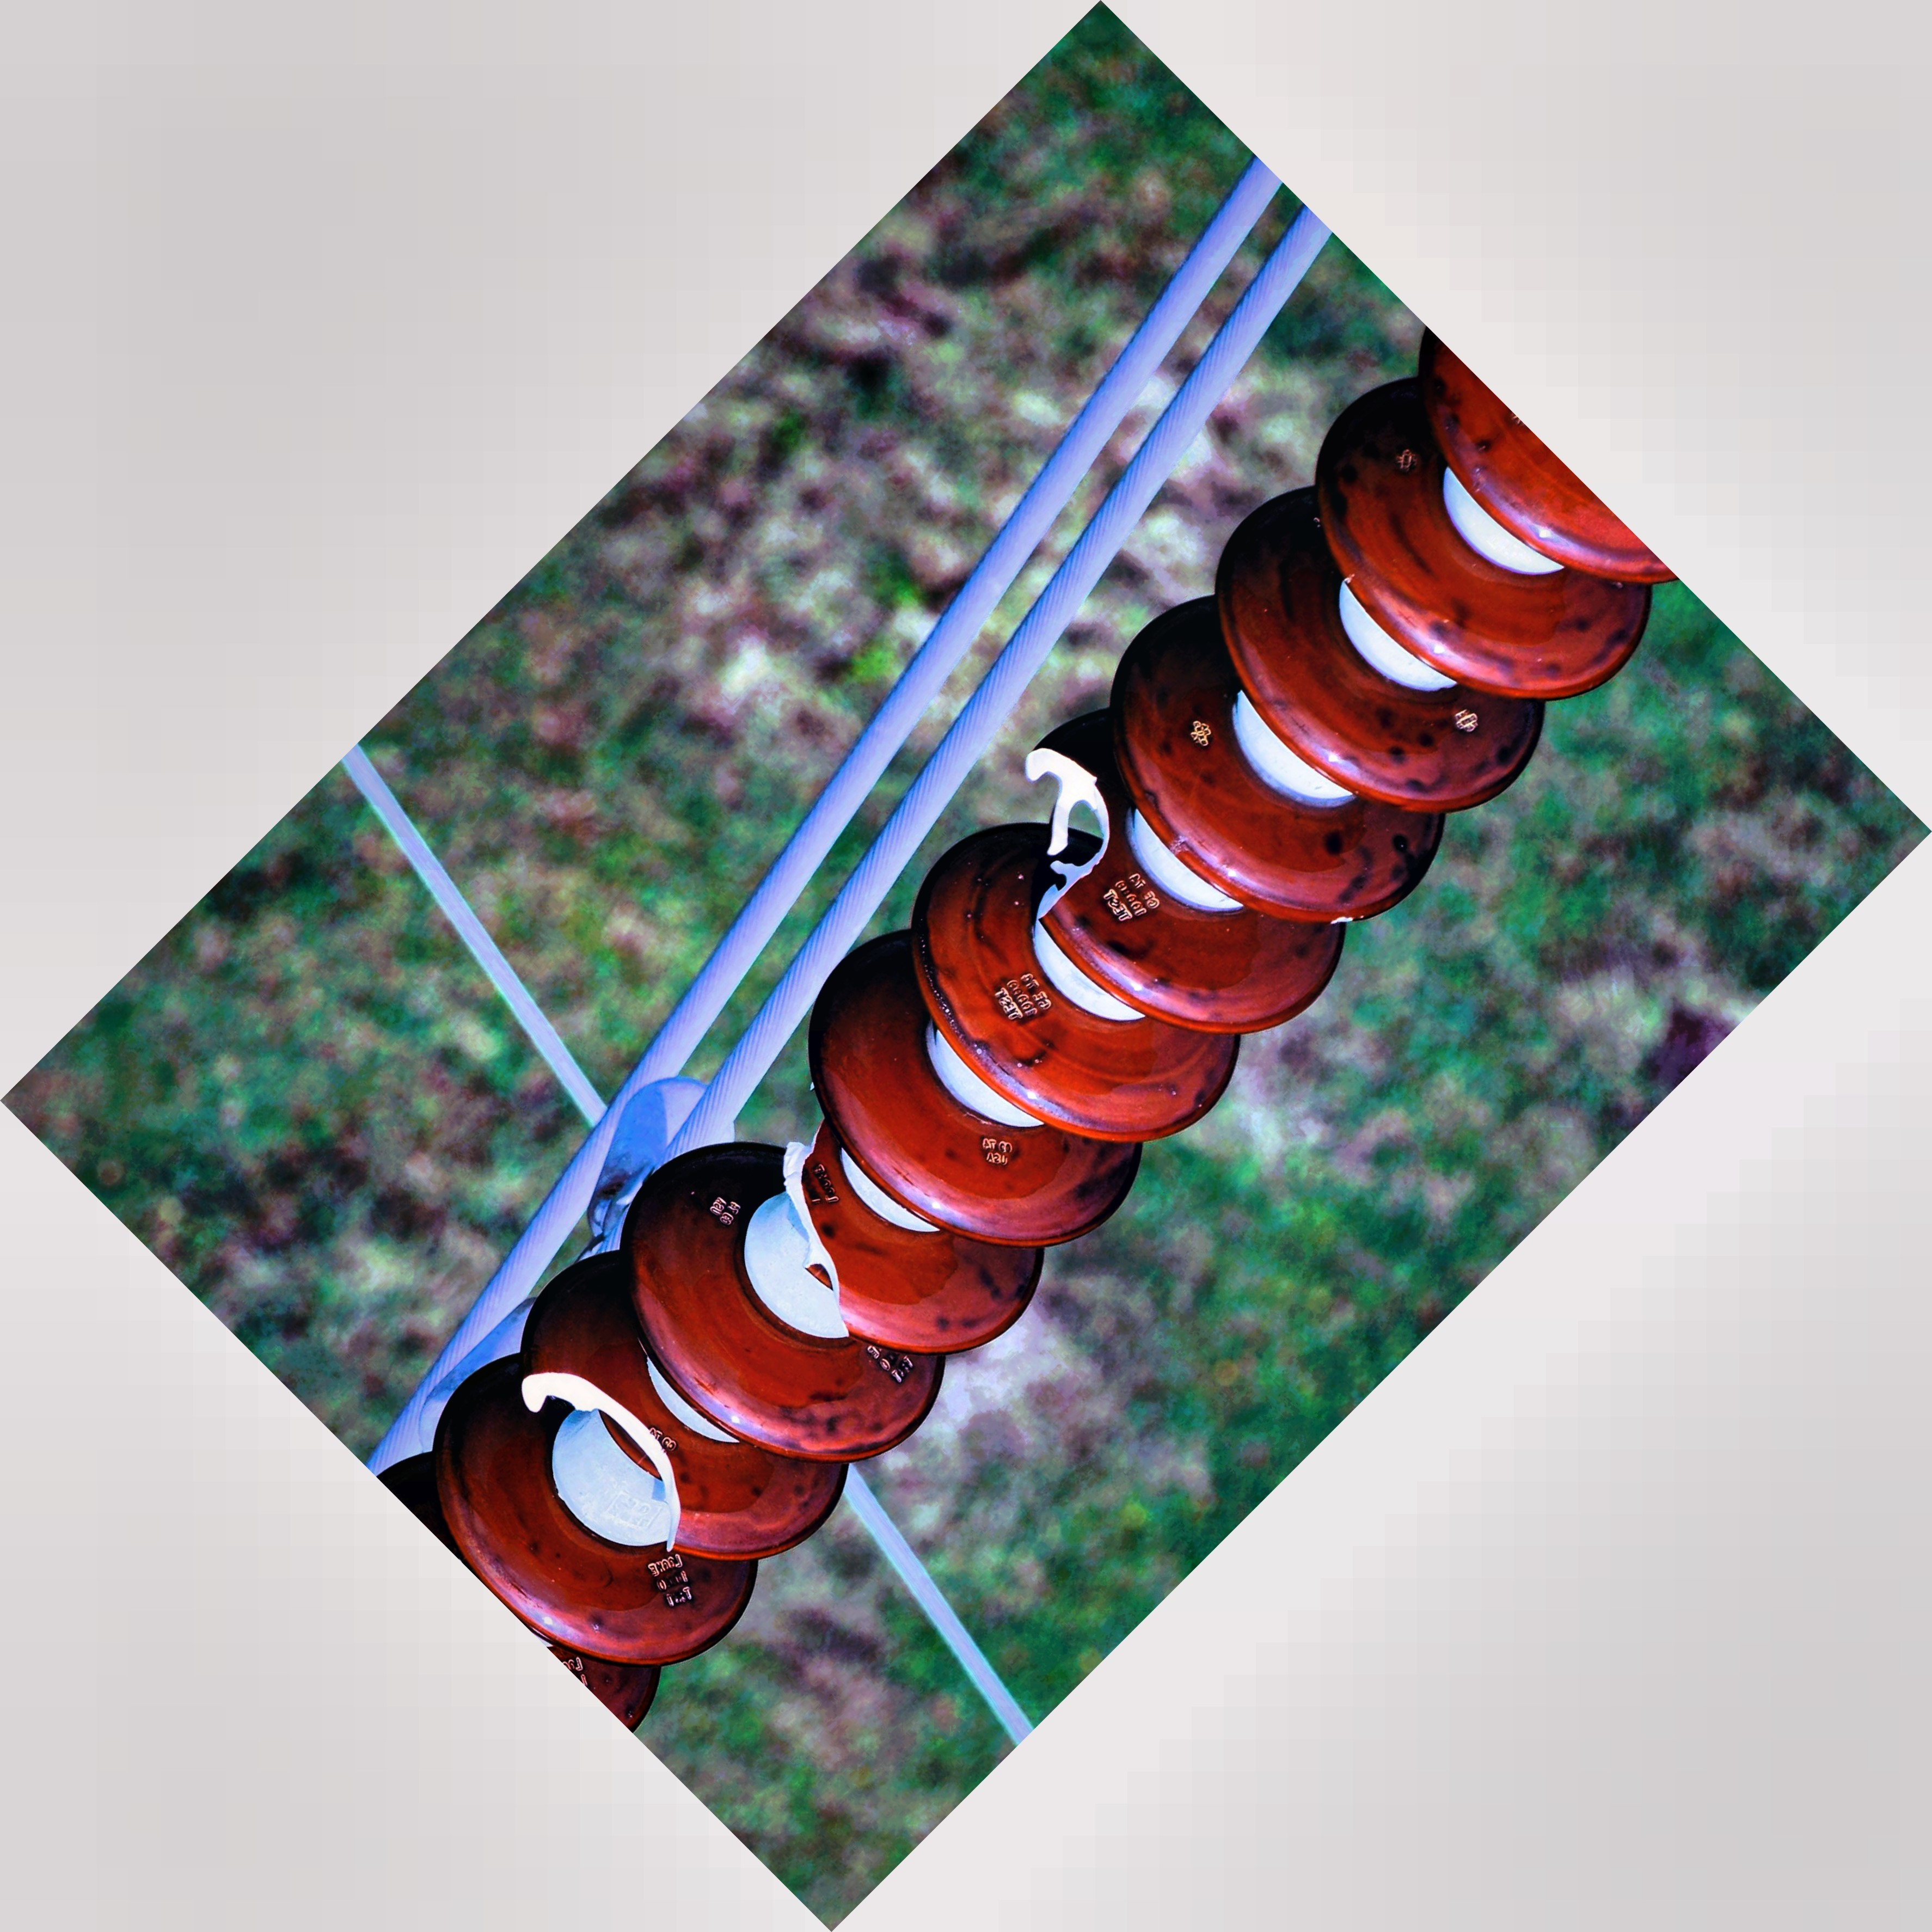insulator breakage: (444, 1267, 863, 1566), (993, 717, 1353, 1049), (741, 1085, 1070, 1382)
